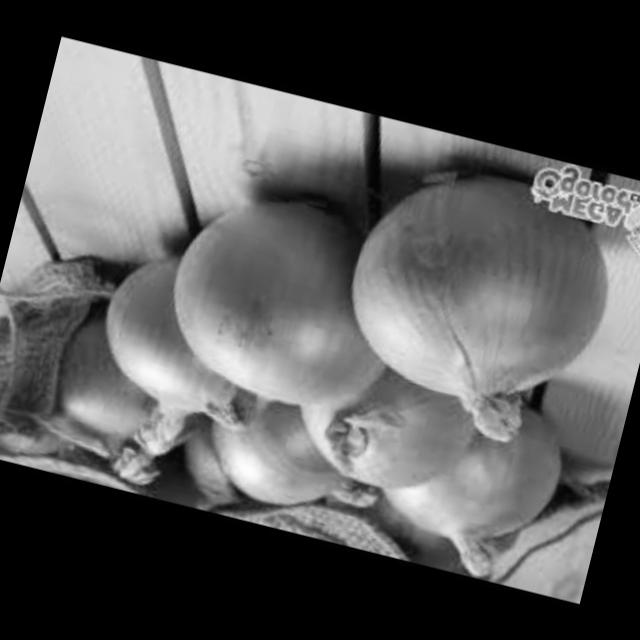onion: (321, 147, 639, 447), (146, 178, 436, 437), (288, 338, 500, 516), (379, 382, 577, 568), (80, 255, 264, 440), (31, 322, 211, 481), (190, 376, 370, 528)
